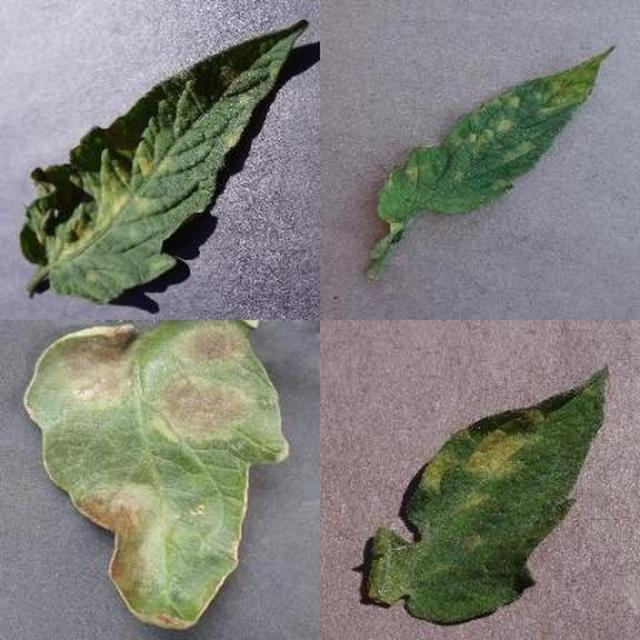Leaf Mold: (223, 198, 640, 640)
